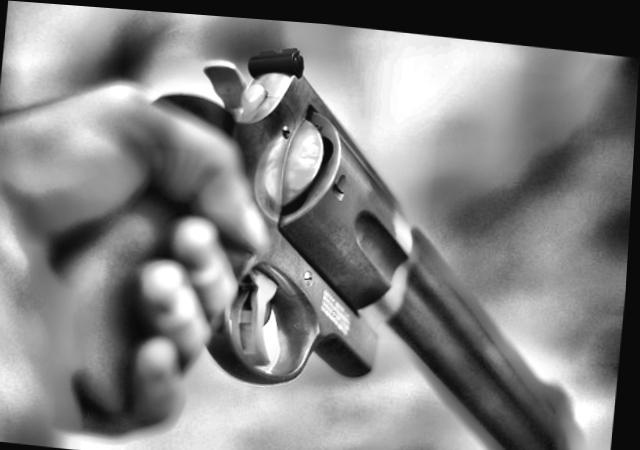pistol: (5, 17, 609, 450)
